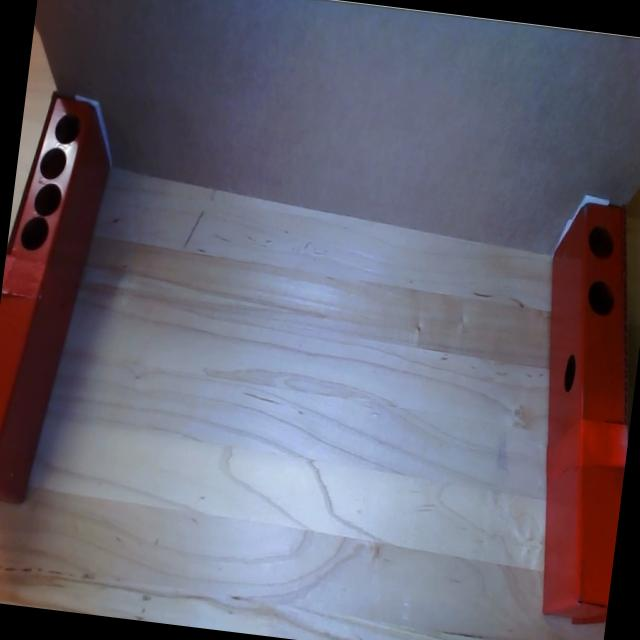Hole: (18, 214, 50, 253), (586, 277, 616, 318), (32, 180, 62, 218), (38, 145, 68, 181), (586, 223, 615, 260), (53, 110, 82, 146), (562, 352, 578, 394)
